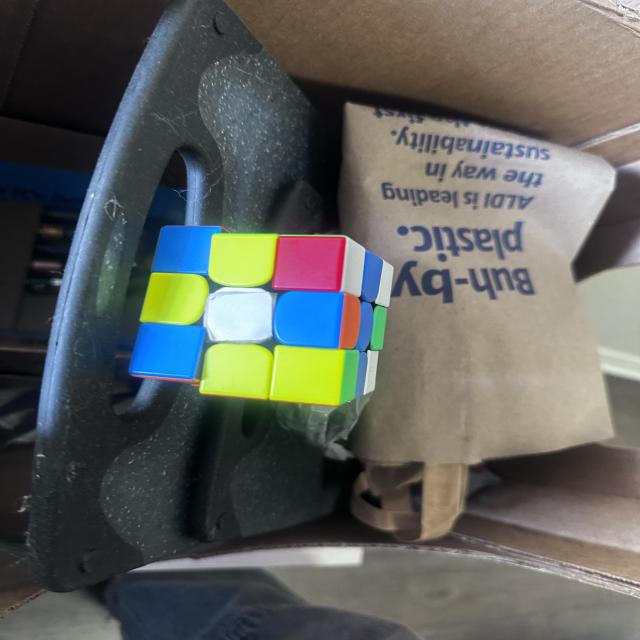sticker: (270, 344, 357, 407), (274, 290, 360, 351), (129, 322, 207, 382), (272, 235, 349, 295), (199, 342, 274, 400), (204, 287, 278, 344), (208, 232, 280, 288), (151, 225, 226, 276), (138, 272, 208, 326), (359, 250, 386, 308), (338, 294, 360, 350), (353, 301, 375, 352), (339, 350, 360, 403), (375, 257, 395, 308), (352, 351, 370, 398), (370, 304, 388, 349)
